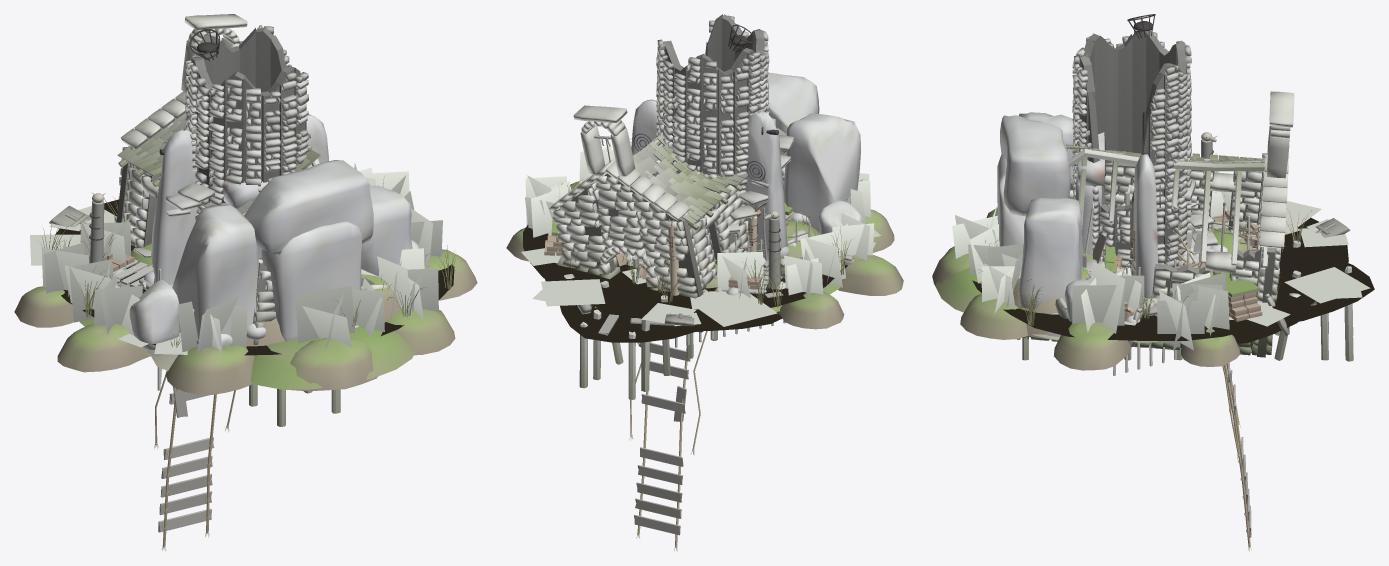
File: wild_sites.glb
3 renders of one model, left to right at view 1: azimuth 30°, elevation 25°; view 2: azimuth 150°, elevation 25°; view 3: azimuth 270°, elevation 25°, orthographic. The views are drawn at different scales.
Visible parts, largest first — view 1: site_mission_chapel, site_old_ones_door, site_signal_tower, site_clan_gong, site_colony_causeway, site_rope_bridge_far, site_ork_barrows, site_peat_cutting, site_scree_battlefield; view 2: site_mission_chapel, site_signal_tower, site_old_ones_door, site_colony_causeway, site_clan_gong, site_rope_bridge_far, site_ork_barrows, site_eel_weir, site_peat_cutting, site_scree_battlefield; view 3: site_mission_chapel, site_signal_tower, site_old_ones_door, site_colony_causeway, site_peat_cutting, site_clan_gong, site_ork_barrows, site_eel_weir, site_rope_bridge_far, site_scree_battlefield.
Part boxes in pixels (x1,y1,x2,y2): site_mission_chapel: (14, 14, 477, 394); site_old_ones_door: (119, 160, 419, 350); site_signal_tower: (139, 25, 311, 290); site_clan_gong: (149, 114, 328, 354); site_colony_causeway: (249, 275, 415, 426); site_rope_bridge_far: (154, 371, 235, 551); site_ork_barrows: (79, 184, 429, 354); site_peat_cutting: (52, 236, 429, 346); site_scree_battlefield: (113, 269, 265, 356); site_mission_chapel: (506, 105, 903, 332); site_signal_tower: (656, 14, 793, 267); site_old_ones_door: (702, 72, 863, 283); site_colony_causeway: (560, 254, 717, 399); site_clan_gong: (631, 99, 831, 295); site_rope_bridge_far: (629, 331, 707, 551); site_ork_barrows: (541, 180, 870, 311); site_eel_weir: (545, 220, 827, 347); site_peat_cutting: (544, 203, 794, 304); site_scree_battlefield: (626, 202, 809, 292); site_mission_chapel: (932, 91, 1370, 370); site_signal_tower: (1050, 14, 1217, 315); site_old_ones_door: (997, 112, 1105, 322); site_colony_causeway: (935, 184, 1374, 361); site_peat_cutting: (1013, 203, 1285, 341); site_clan_gong: (1127, 111, 1160, 322); site_ork_barrows: (1029, 132, 1286, 342); site_eel_weir: (1011, 216, 1298, 375); site_rope_bridge_far: (1173, 227, 1251, 551); site_scree_battlefield: (1046, 233, 1227, 336).
Size of the model in its own units: 9.53 by 12.85 by 9.98.
